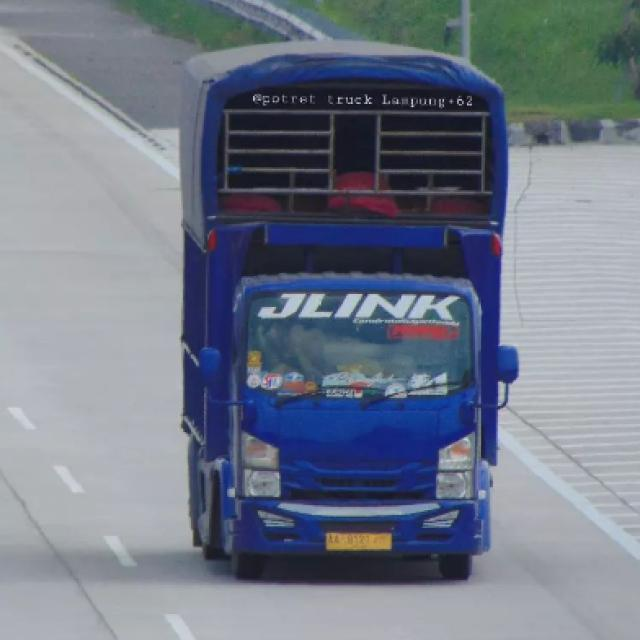Truck: (157, 30, 538, 589)
